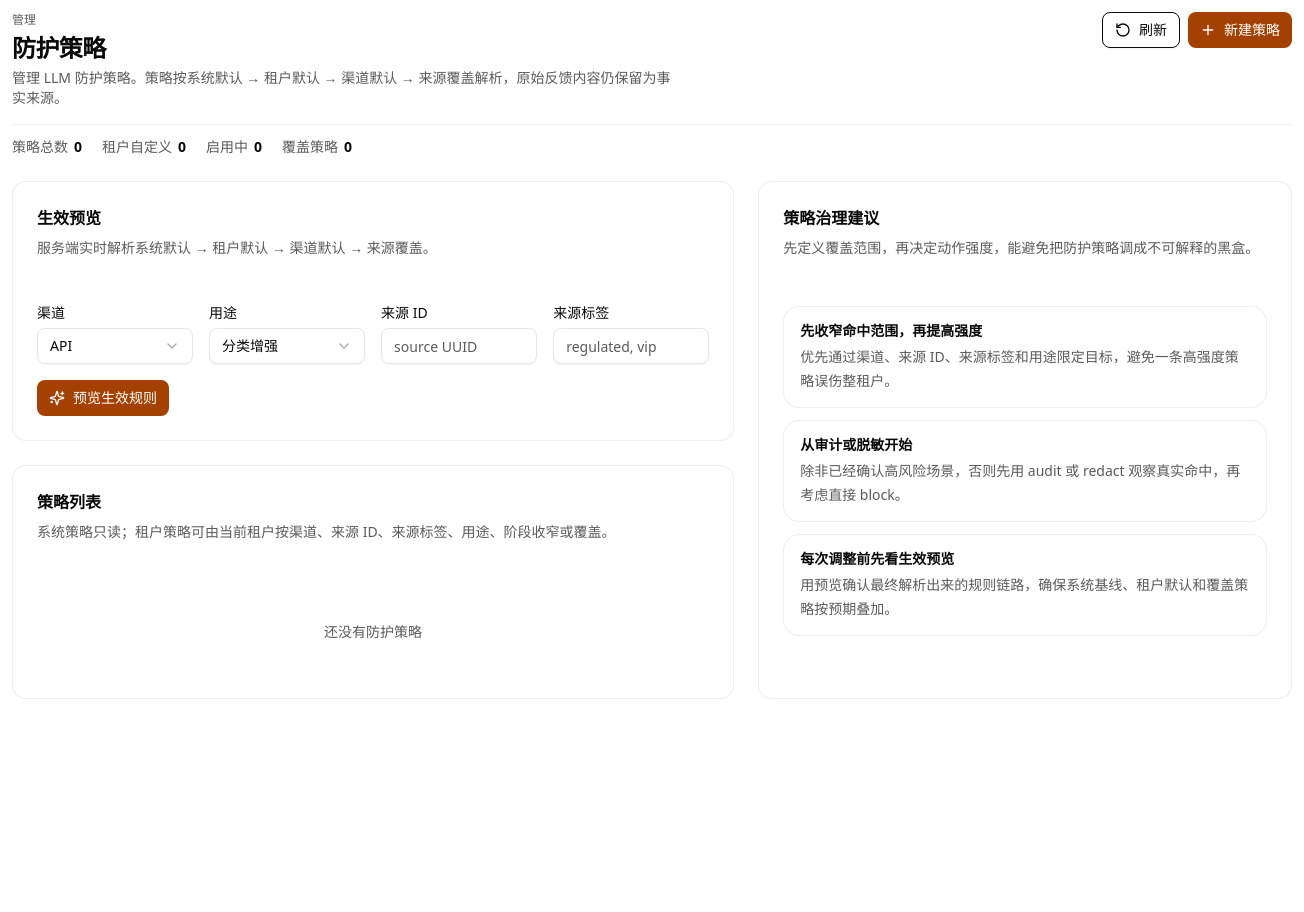
Test: GuardPoliciesPage user flows › refetches after an empty/error state and renders policies without rules
Expected: the text "还没有防护策略" is shown, [324,622,422,641]
Step 1. Click the button "刷新" → (1141, 30), box [1102,12,1180,48]
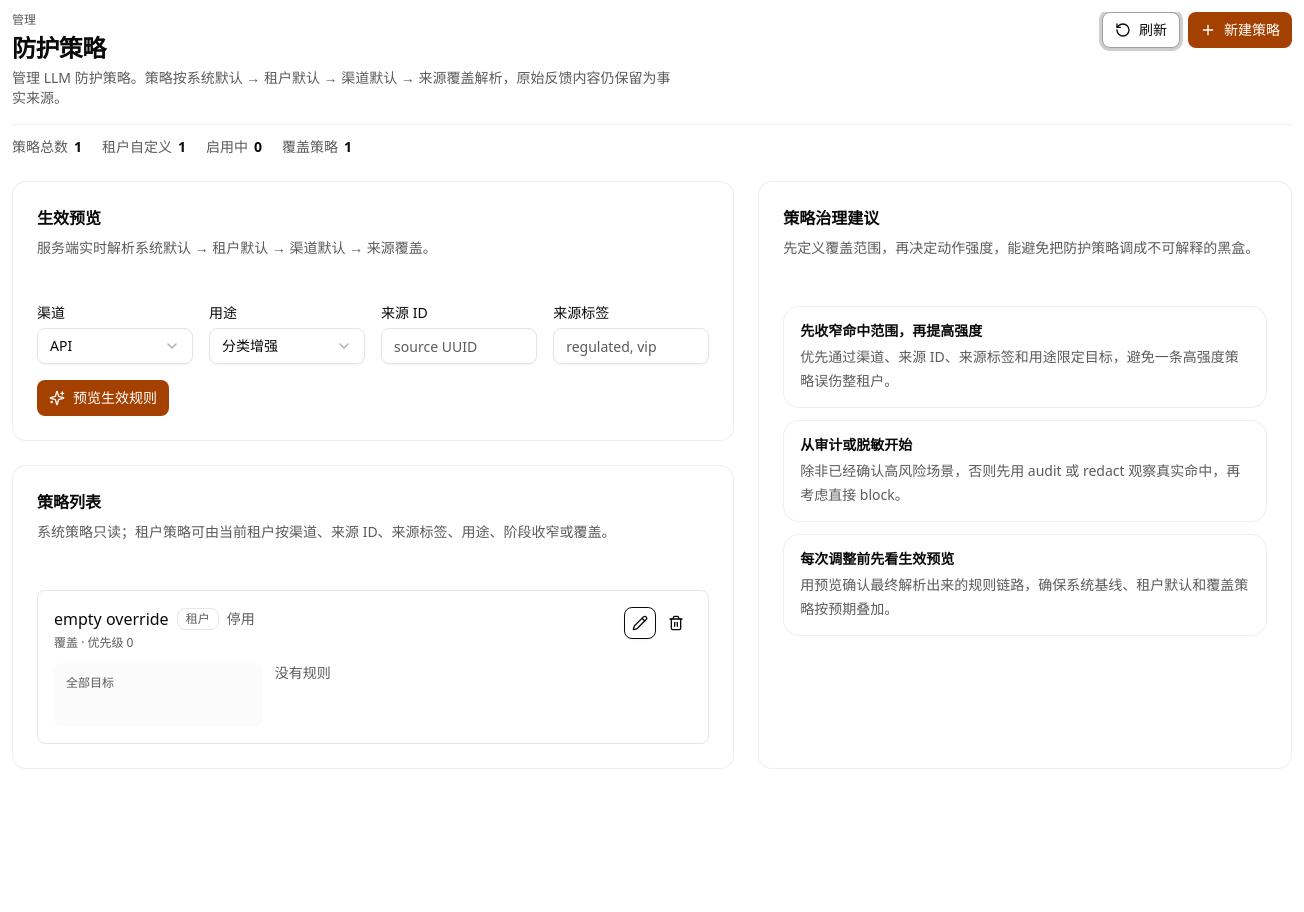
Expected: the text "empty override" is shown, [54,607,169,631]
Expected: the text "停用" is shown, [227,609,255,629]
Expected: the text "覆盖 · 优先级 0" is shown, [54,634,134,651]
